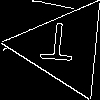T: (38, 22, 76, 70)
